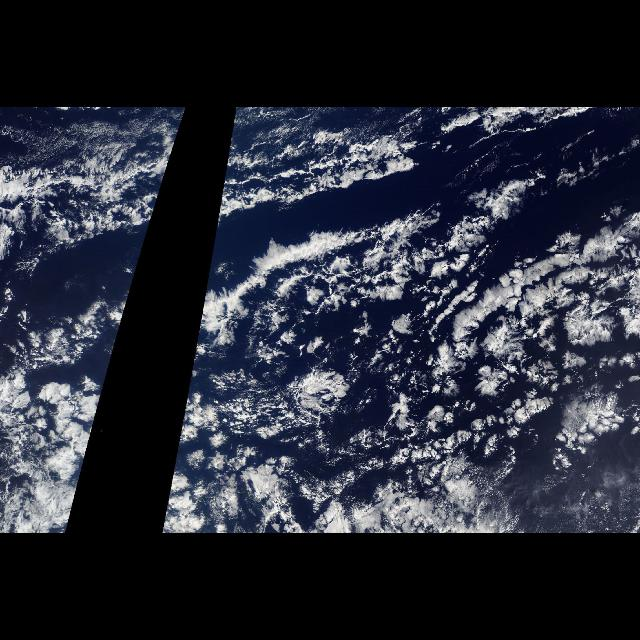Fish: (212, 133, 422, 254), (4, 133, 180, 254)
Flower: (28, 374, 108, 498), (167, 374, 245, 498)
